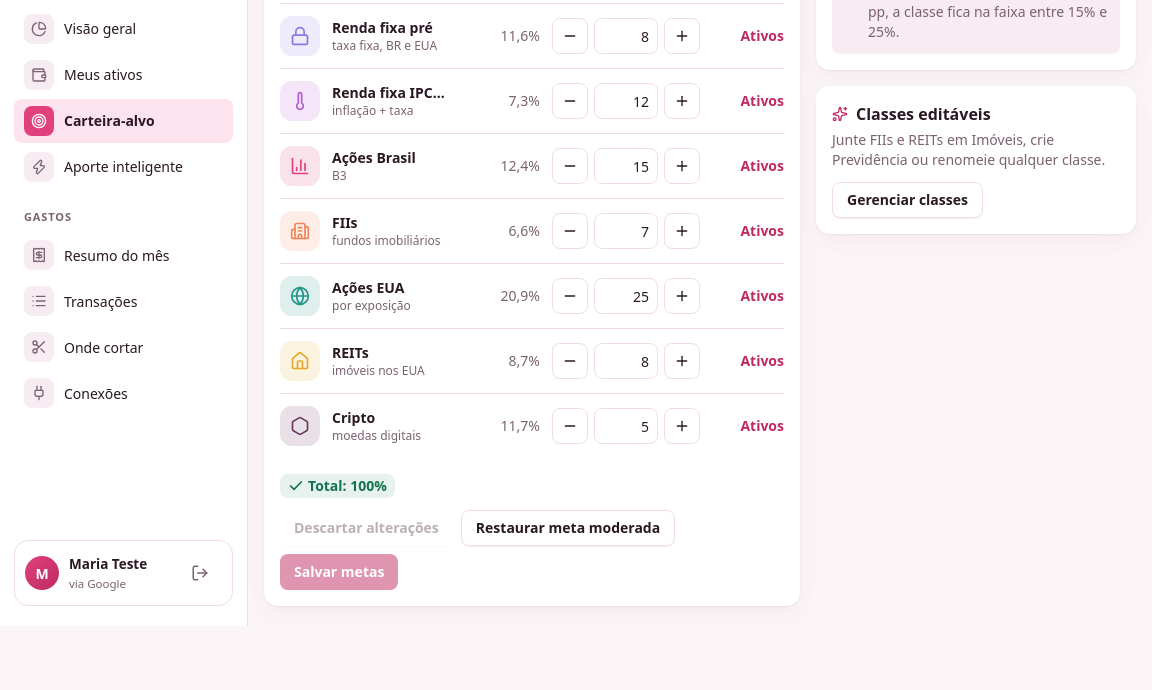
Test: carteira-alvo: edição e salvamento › envia as metas em bps inteiros, inclusive o que foi digitado com duas casas
(page scrolled)
Expected: the field named "Meta de Cripto" is shown, [594,408,658,444]
Click the button named "Aumentar Cripto". click: (682, 426)
box: [664,408,700,444]
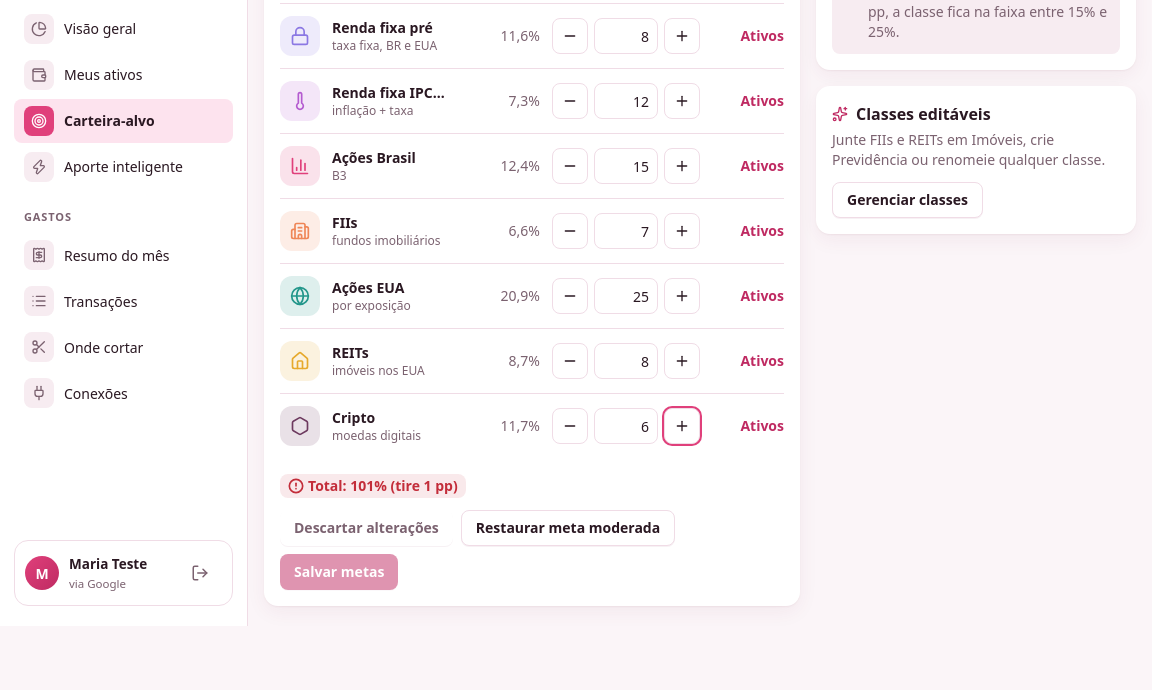
Clear the field named "Meta de Ações EUA". click: (626, 296)
box: [594,278,658,314]
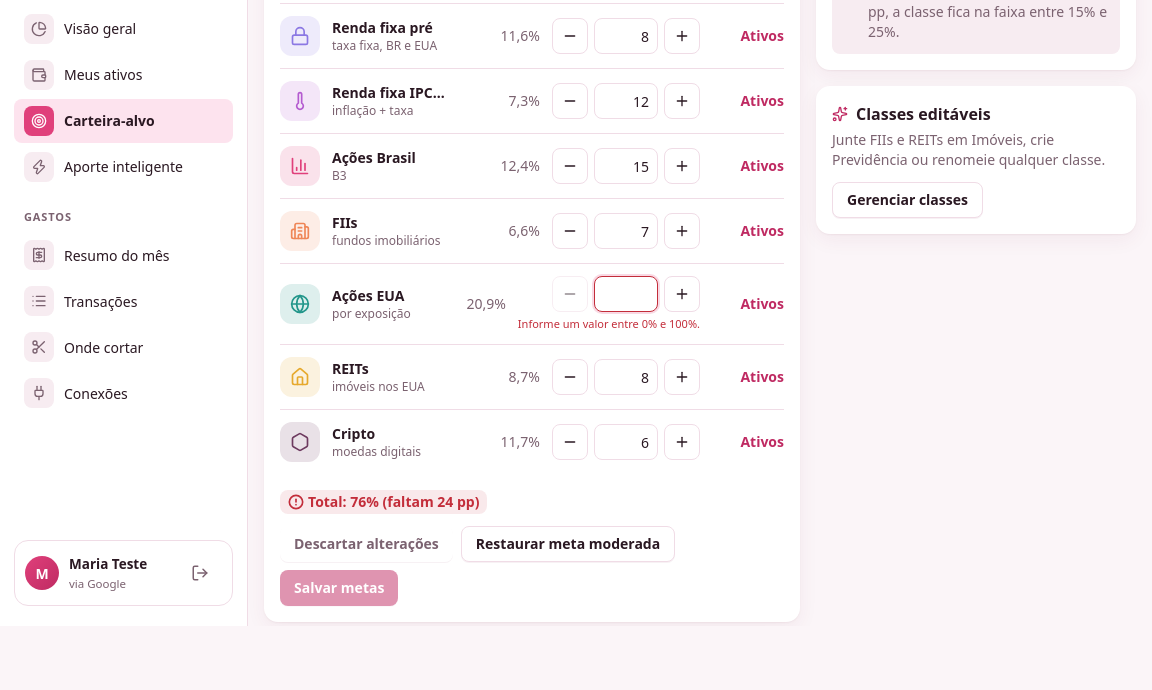
Type "24,00" into the field named "Meta de Ações EUA". click: (626, 294)
box: [594,276,658,312]
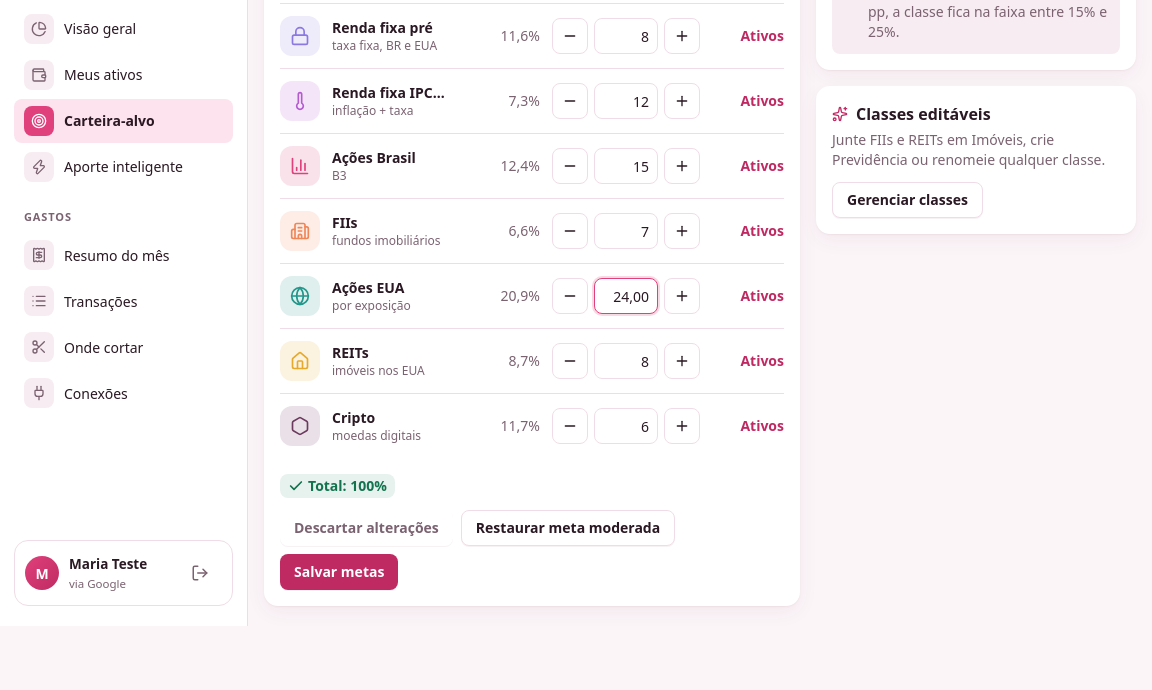
Click the button "Salvar metas". click: (339, 572)
box: [280,554,398,590]
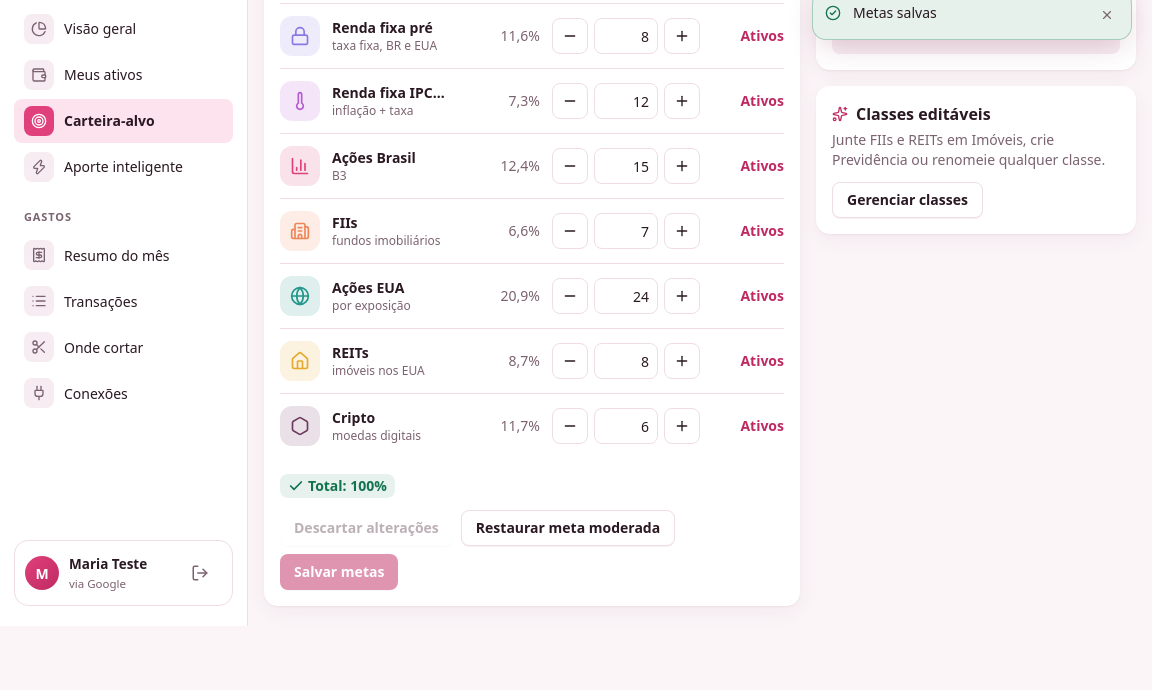
Expected: the text "Metas salvas" is shown, [853,3,937,23]
Expected: the button "Salvar metas" is disabled, [280,554,398,590]
Expected: the field named "Meta de Ações EUA" holds "24", [594,278,658,314]
